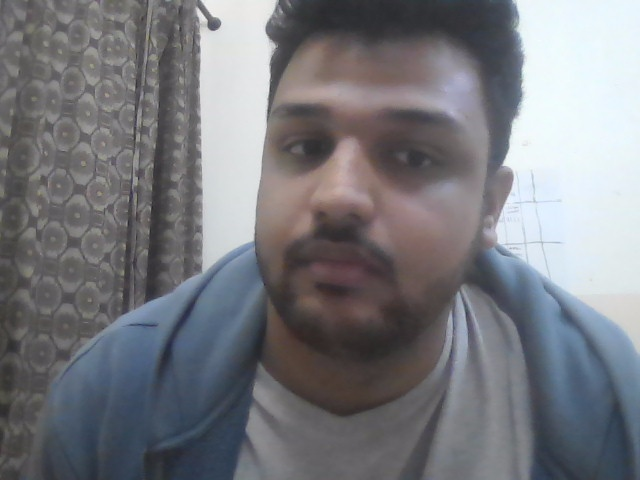awake: (194, 18, 550, 368)
